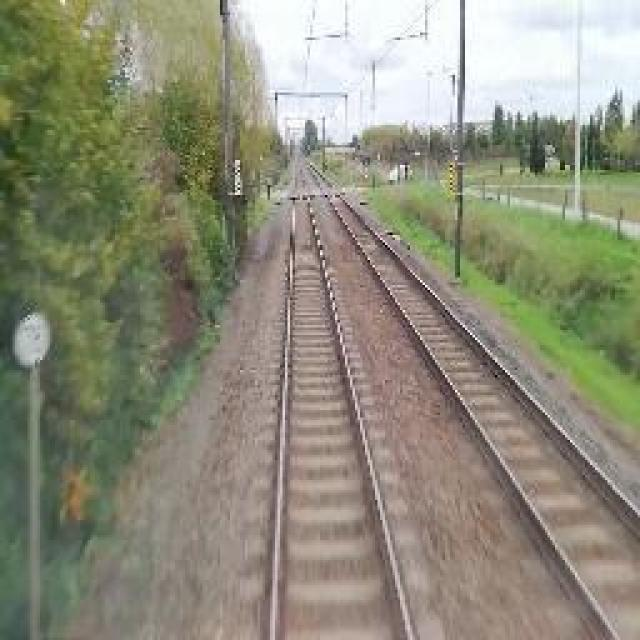rail: (251, 154, 451, 638)
